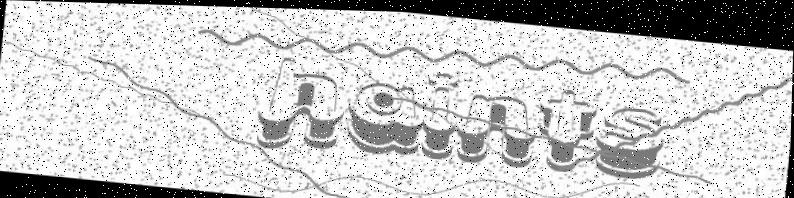a: (340, 77, 427, 155)
h: (251, 52, 351, 154)
i: (414, 59, 466, 164)
n: (453, 87, 541, 171)
s: (593, 100, 670, 177)
t: (532, 79, 600, 174)
